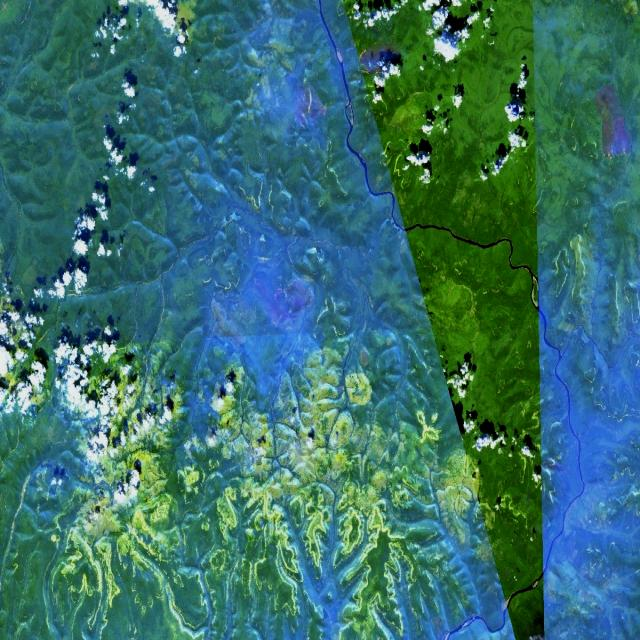fire: (355, 38, 405, 82)
